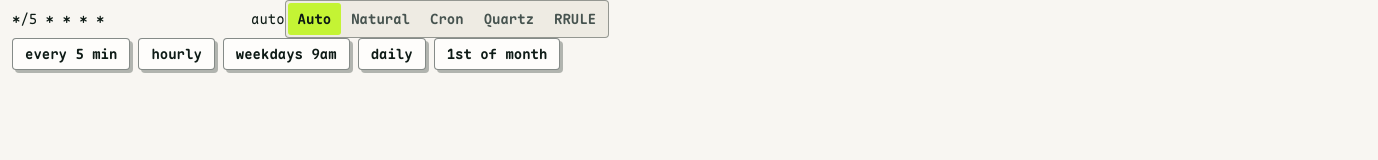
ScheduleSyntaxToggle › converts out of Auto by detecting what was typed
The image size is (1378, 160).
Click the radio button labelled "RRULE": (575, 19) [554,10,596,28]
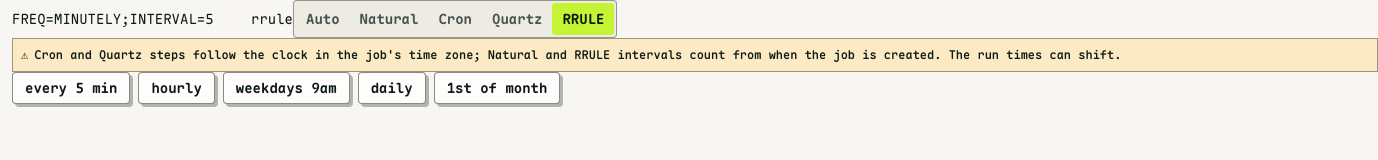
Expected: the field named "expr" holds "FREQ=MINUTELY;INTERVAL=5", [12,8,251,31]
